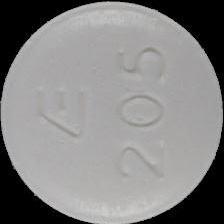68084-275: (0, 0, 224, 224)
